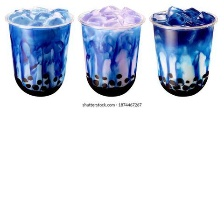glass: (1, 3, 76, 100), (147, 4, 221, 100), (75, 6, 149, 100)
